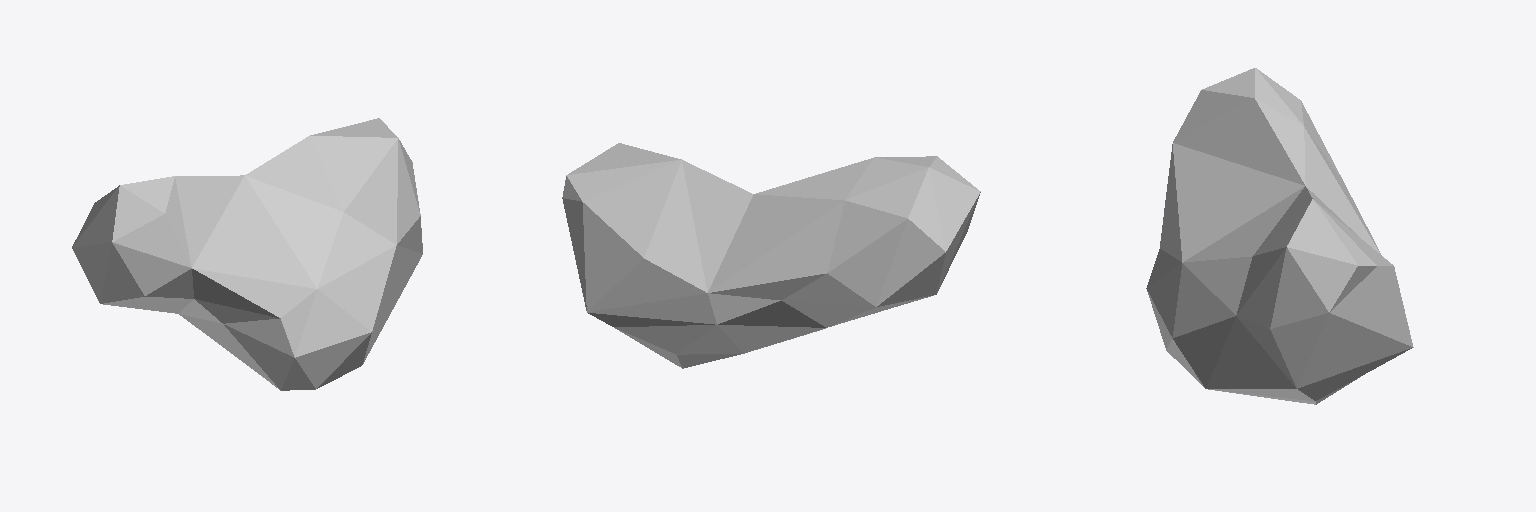
Rendered from island_cloud_4.obj.
3 views of the same model, side by side, from view 1: azimuth 30°, elevation 25°; view 2: azimuth 150°, elevation 25°; view 3: azimuth 270°, elevation 25° (orthographic).
Visible parts, largest first — view 1: cloud4 clouds island_obj; view 2: cloud4 clouds island_obj; view 3: cloud4 clouds island_obj.
Part boxes in pixels (left/top/right/bottom): cloud4 clouds island_obj: left=72, top=118, right=422, bottom=390; cloud4 clouds island_obj: left=562, top=143, right=980, bottom=368; cloud4 clouds island_obj: left=1146, top=68, right=1413, bottom=404.
Size of the model in its own units: 2 by 1.23 by 1.28.